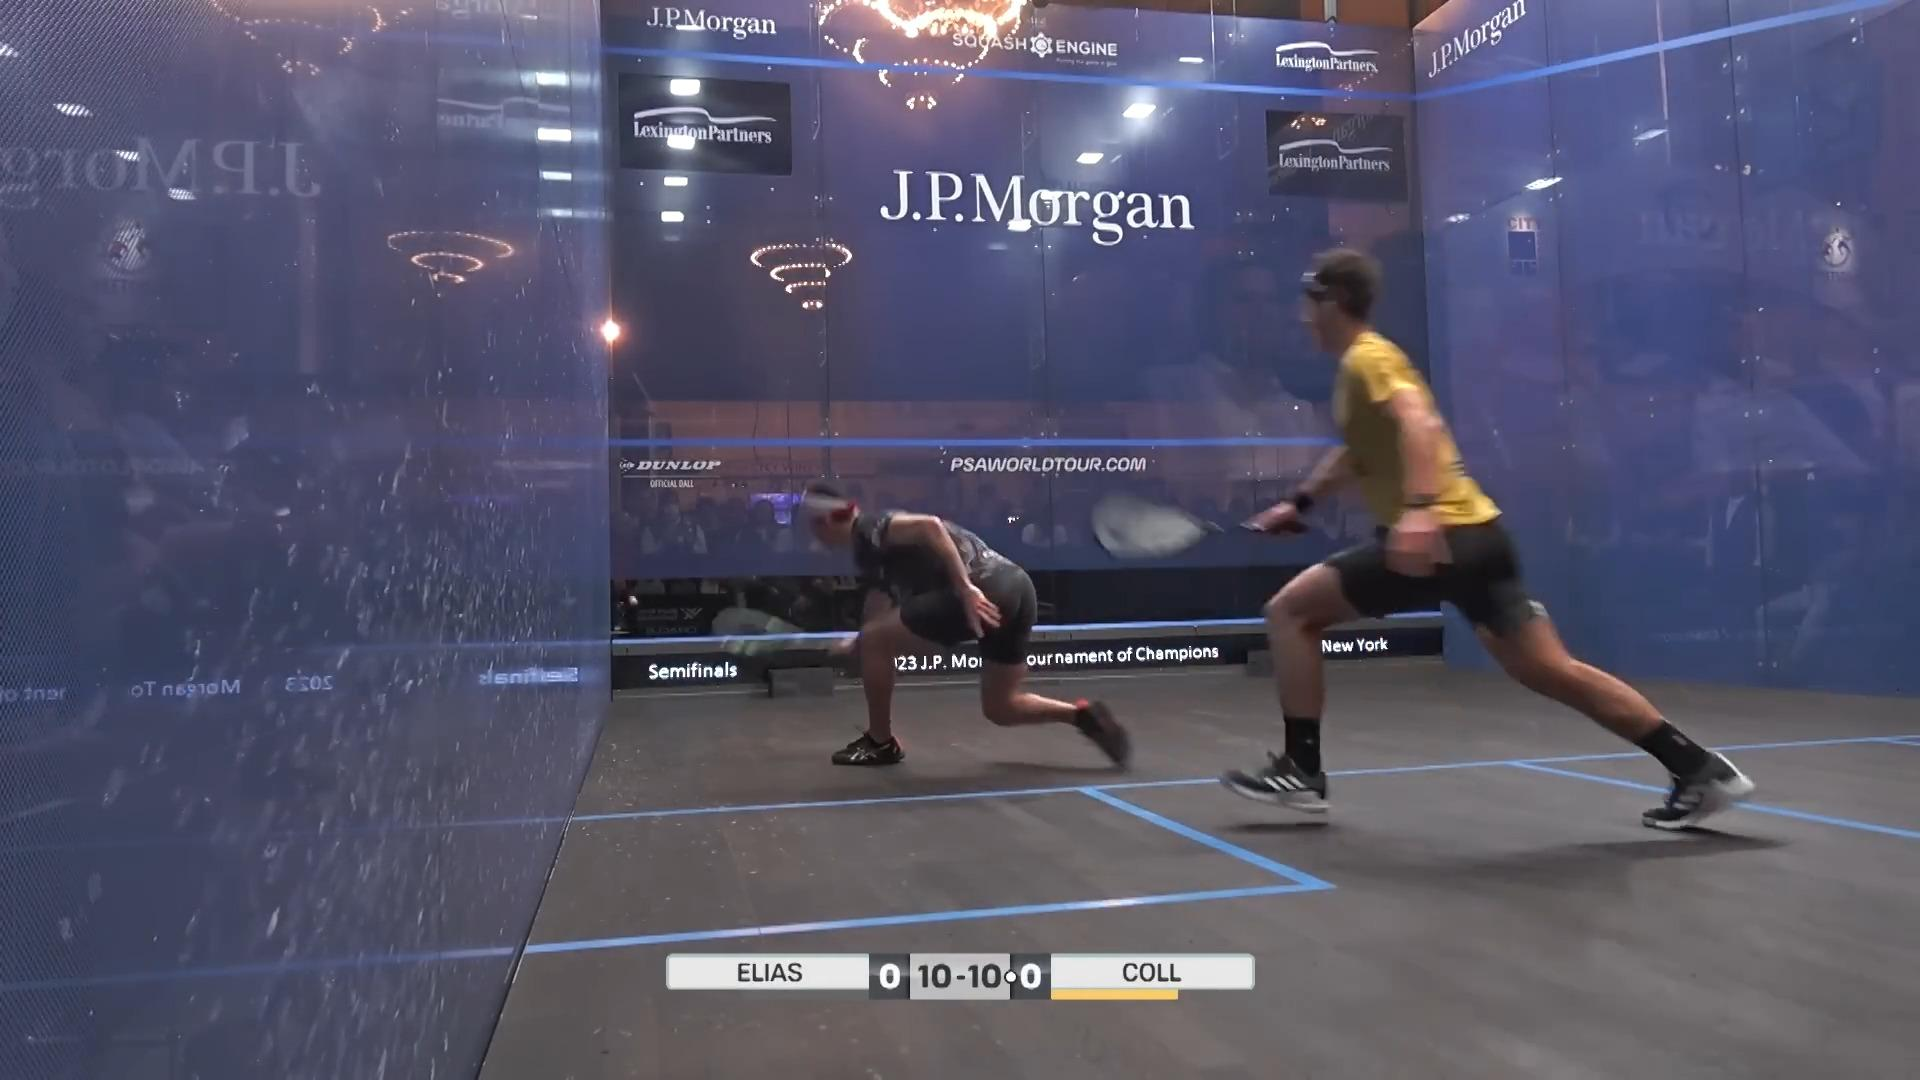Racket: (1076, 491, 1292, 576), (708, 591, 848, 683)
